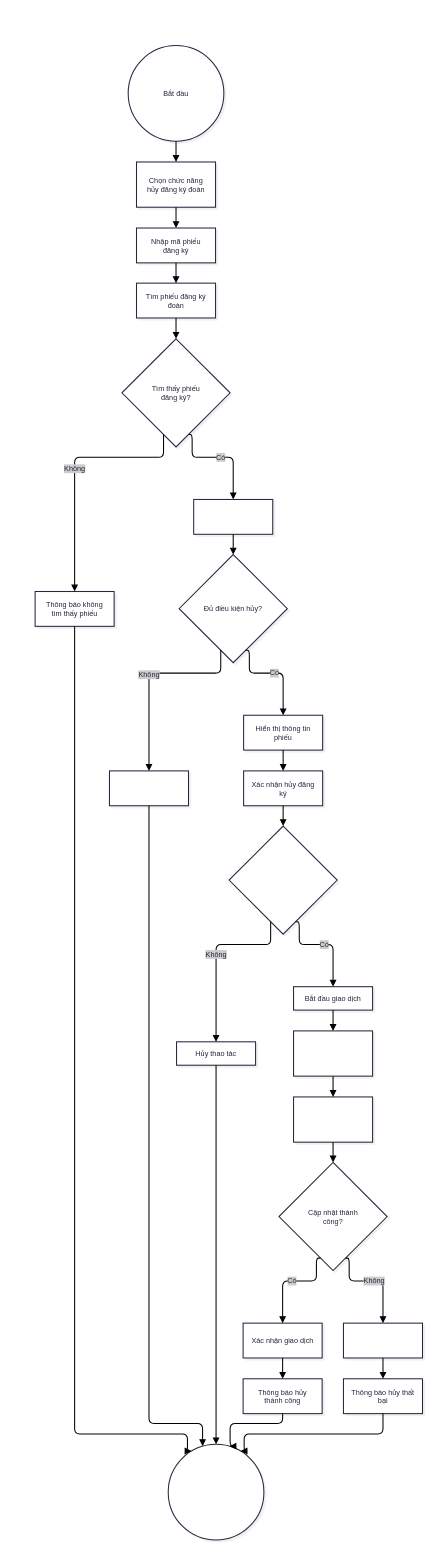
This 434x1551 diagram has some shape labels left out. Here are the shapes that lost their labels. From the top down, the centre of each, then its label:
(x=234, y=518): Kiểm tra điều kiện hủy
(x=150, y=789): Thông báo không đủ điều kiện hủy
(x=284, y=881): Đồng ý hủy?
(x=334, y=1054): Cập nhật trạng thái phiếu thành Đã hủy
(x=334, y=1120): Gỡ phân công hướng dẫn viên liên quan
(x=384, y=1341): Hoàn tác giao dịch
(x=216, y=1493): Kết thúc
